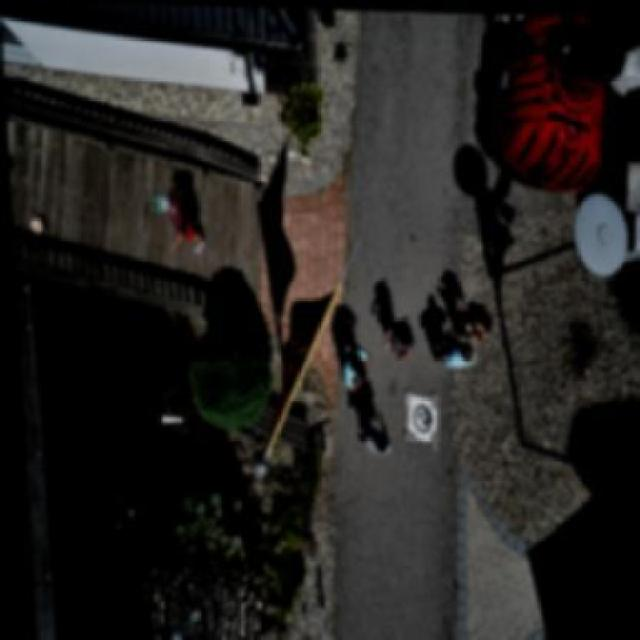Person: (152, 175, 208, 257), (331, 336, 372, 399), (425, 326, 477, 369), (347, 418, 396, 458), (446, 300, 506, 329), (381, 312, 416, 361)
